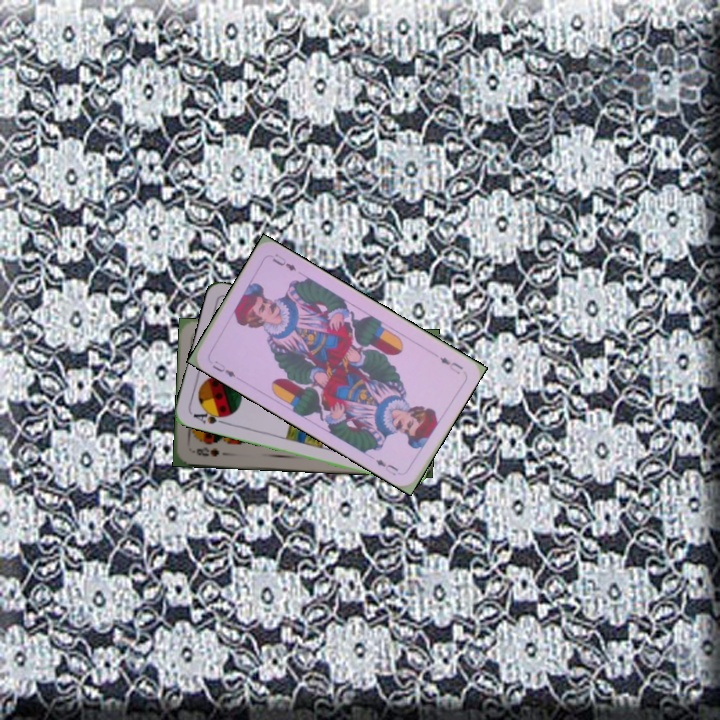EU: (435, 352, 466, 377), (208, 356, 238, 380)
S8: (188, 443, 221, 459)
SA: (189, 406, 230, 427)
